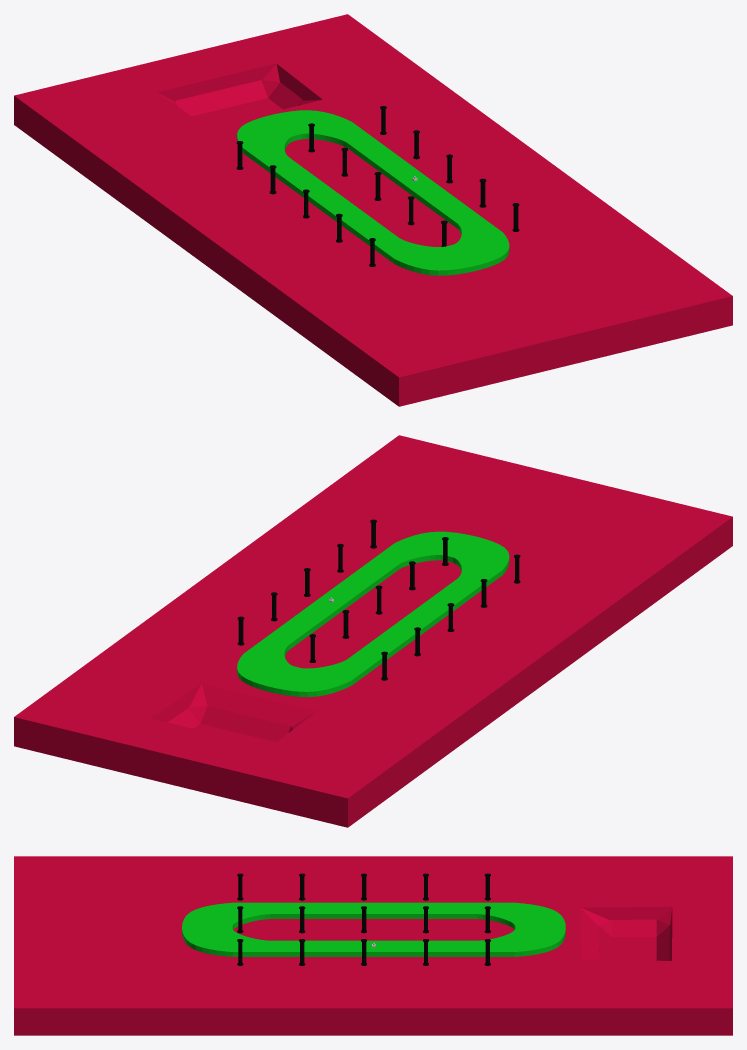
File: sandplane.obj
3 renders of one model, top to bottom at view 1: azimuth 30°, elevation 25°; view 2: azimuth 150°, elevation 25°; view 3: azimuth 270°, elevation 25°, orthographic. The views are drawn at different scales.
Parts seen in each view (by area): view 1: Plane, Cylinder.001; view 2: Plane, Cylinder.001; view 3: Plane, Cylinder.001.
Part boxes in pixels (x1,y1,x2,y2): Plane: (14,14,732,406); Cylinder.001: (236,106,519,266); Plane: (14,435,732,827); Cylinder.001: (237,519,520,680); Plane: (14,856,732,1035); Cylinder.001: (237,873,490,965).
Size of the model in its own units: 200 by 31.84 by 400.
